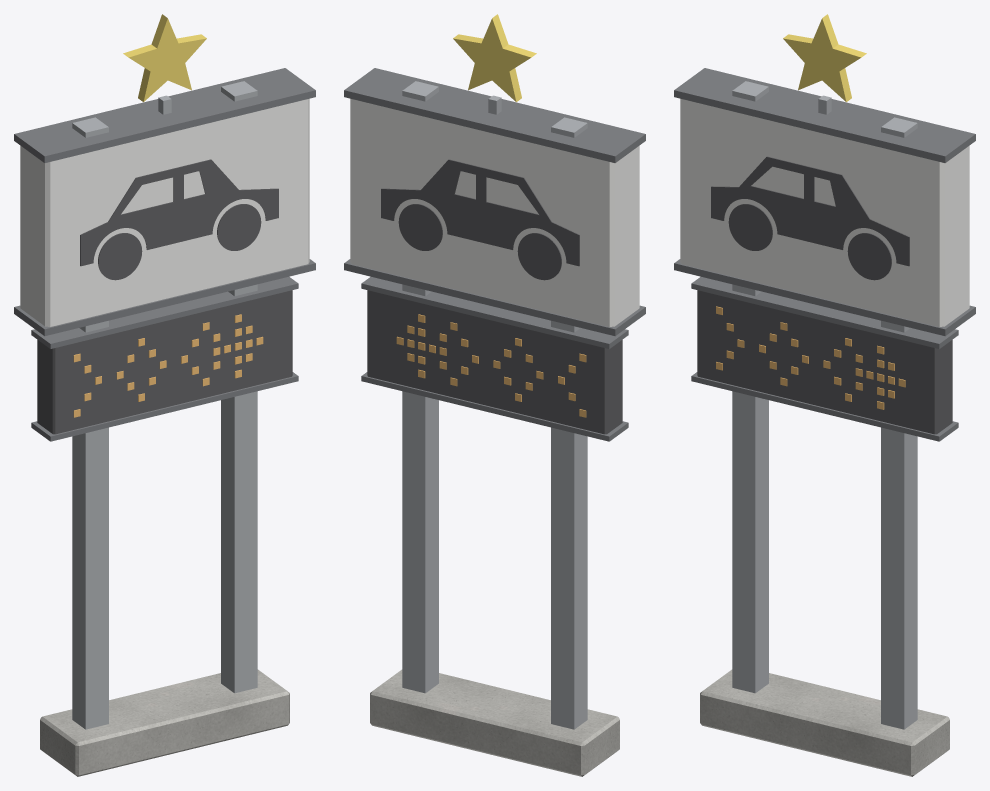
The model's file is pylon_sign.glb.
3 views of the same model, side by side, from view 1: azimuth 30°, elevation 25°; view 2: azimuth 150°, elevation 25°; view 3: azimuth 330°, elevation 25° (orthographic).
Parts seen in each view (by area): view 1: pylon_sign_sign_w, pylon_sign_dark, pylon_sign_steel, pylon_sign_mull, pylon_sign_concrete, pylon_sign_flag_y, pylon_sign_led; view 2: pylon_sign_sign_w, pylon_sign_dark, pylon_sign_steel, pylon_sign_mull, pylon_sign_concrete, pylon_sign_flag_y, pylon_sign_led; view 3: pylon_sign_sign_w, pylon_sign_dark, pylon_sign_steel, pylon_sign_mull, pylon_sign_concrete, pylon_sign_flag_y, pylon_sign_led.
Boxes of the visible parts, x1,y1,x2,y2 form: pylon_sign_sign_w: (20,98,309,326); pylon_sign_dark: (37,159,292,434); pylon_sign_steel: (72,81,257,729); pylon_sign_mull: (14,68,315,441); pylon_sign_concrete: (40,669,289,776); pylon_sign_flag_y: (123,14,206,101); pylon_sign_led: (73,314,263,417); pylon_sign_sign_w: (350,98,639,326); pylon_sign_dark: (367,159,622,434); pylon_sign_steel: (402,81,587,729); pylon_sign_mull: (344,68,645,441); pylon_sign_concrete: (370,669,619,776); pylon_sign_flag_y: (453,14,536,101); pylon_sign_led: (396,314,586,417); pylon_sign_sign_w: (680,98,969,326); pylon_sign_dark: (697,156,952,434); pylon_sign_steel: (732,81,917,729); pylon_sign_mull: (674,68,975,441); pylon_sign_concrete: (700,669,949,776); pylon_sign_flag_y: (783,14,866,101); pylon_sign_led: (716,306,905,409).
Bounding box in the file's own units: 3.28 × 8.35 × 0.8.
7 materials, 1 textured.
